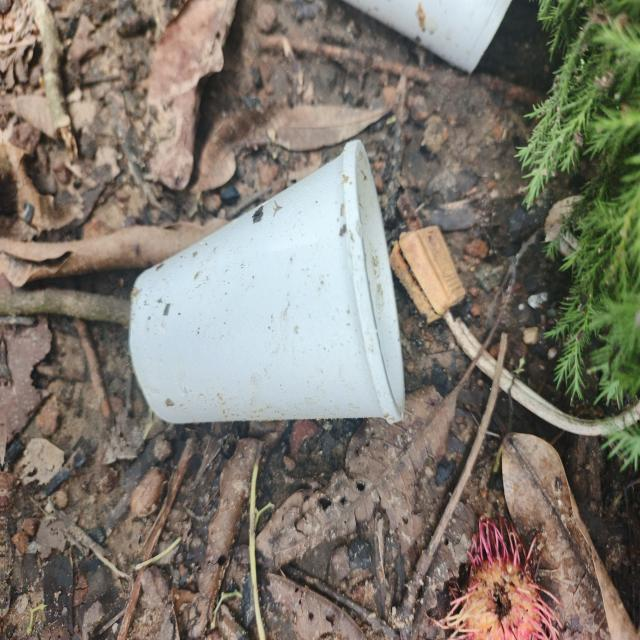plastic: (120, 126, 422, 449), (315, 0, 515, 81)
